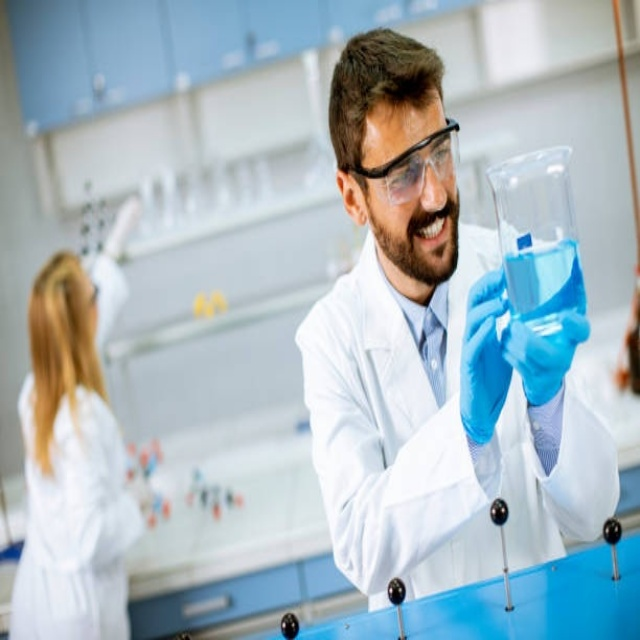Gafas: (346, 121, 464, 209)
Guantes: (458, 260, 507, 445), (500, 304, 589, 403)
Sin_mascara: (409, 209, 458, 264)
